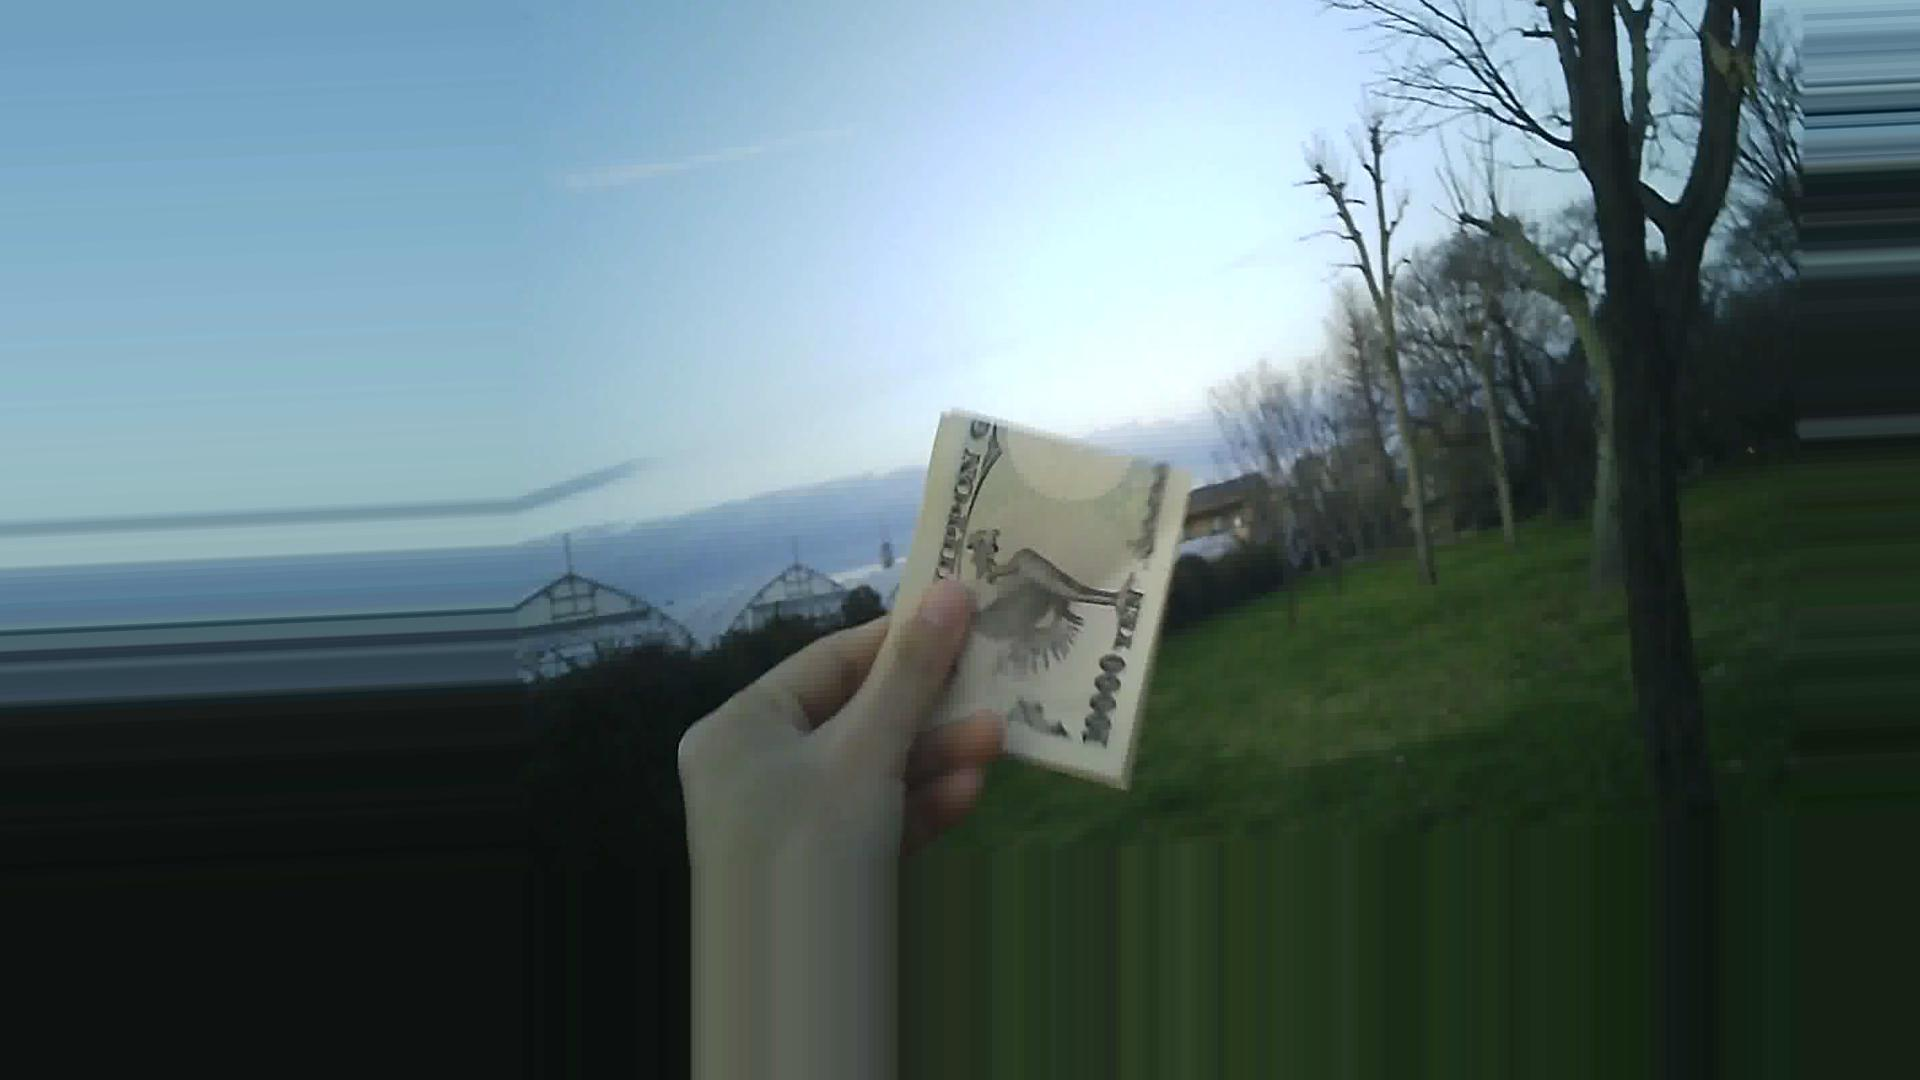10,000 Yen: (839, 400, 1253, 783)
